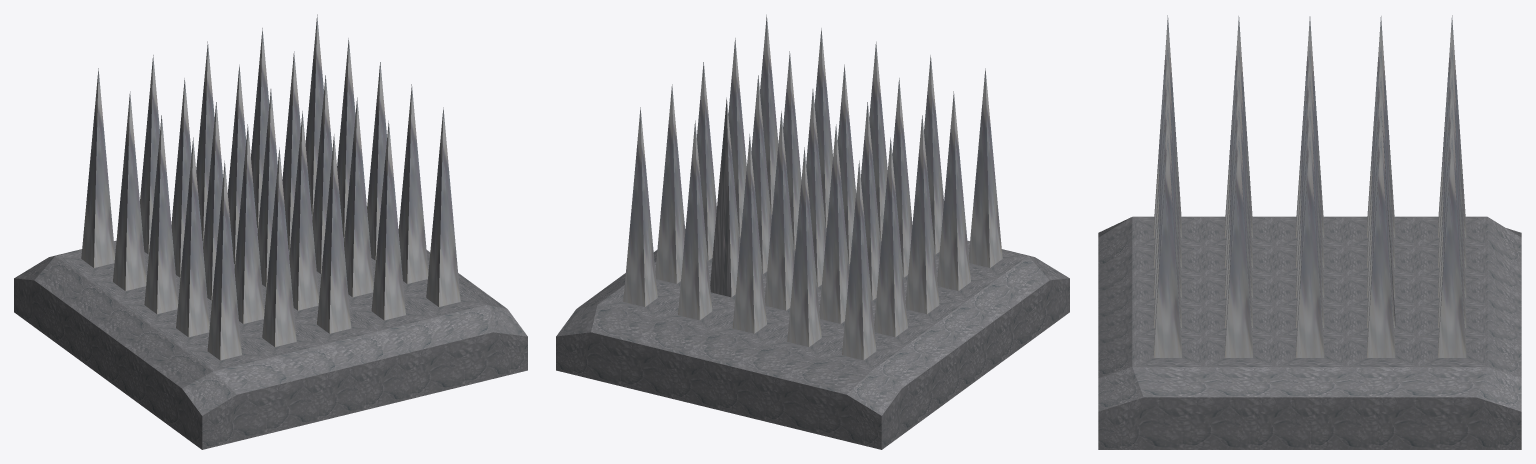
File: Spike.obj
3 views of the same model, side by side, from view 1: azimuth 30°, elevation 25°; view 2: azimuth 150°, elevation 25°; view 3: azimuth 270°, elevation 25° (orthographic). The views are drawn at different scales.
Parts seen in each view (by area): view 1: Spikes_Platform_Cube.027; view 2: Spikes_Platform_Cube.027; view 3: Spikes_Platform_Cube.027.
Part boxes in pixels (x1,y1,x2,y2): Spikes_Platform_Cube.027: [14, 14, 527, 449]; Spikes_Platform_Cube.027: [556, 14, 1069, 449]; Spikes_Platform_Cube.027: [1098, 15, 1521, 449].
Size of the model in its own units: 1.7 by 1.27 by 1.7.
2 materials, 2 textured.
